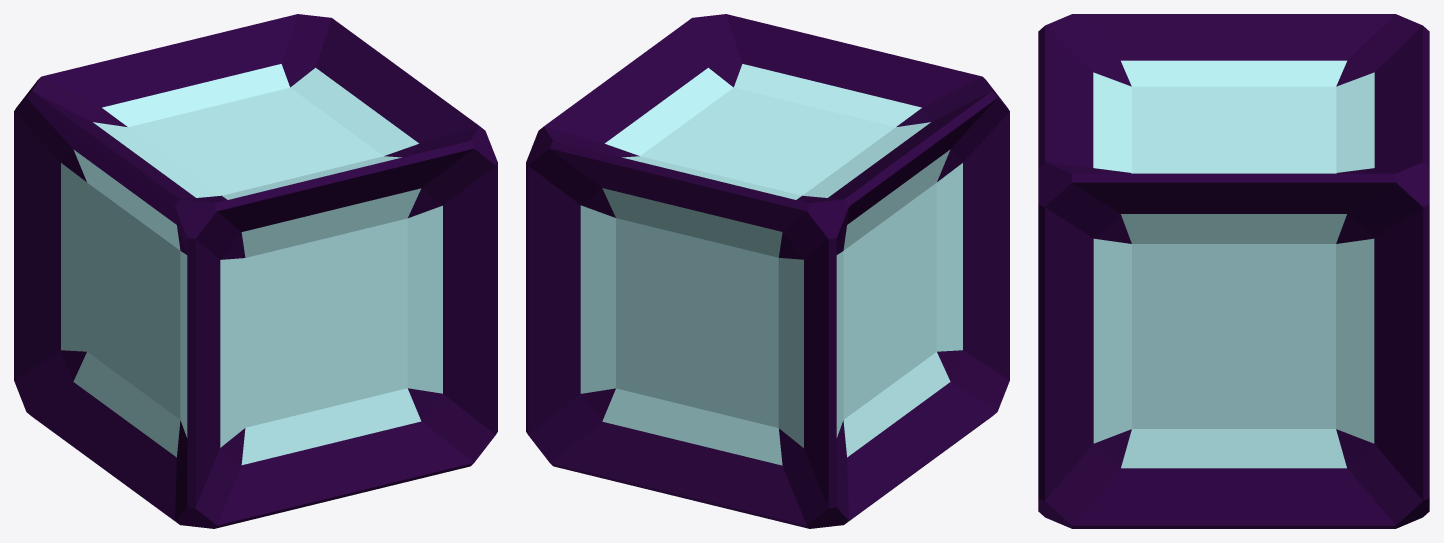
File: Glass_Cube.fbx
3 renders of one model, left to right at view 1: azimuth 30°, elevation 25°; view 2: azimuth 150°, elevation 25°; view 3: azimuth 270°, elevation 25°, orthographic. The views are drawn at different scales.
Visible parts, largest first — view 1: Cube; view 2: Cube; view 3: Cube.
Part boxes in pixels (x1,y1,x2,y2): Cube: [14, 14, 497, 528]; Cube: [526, 14, 1009, 528]; Cube: [1038, 14, 1429, 528].
Size of the model in its own units: 189 by 190 by 189.
